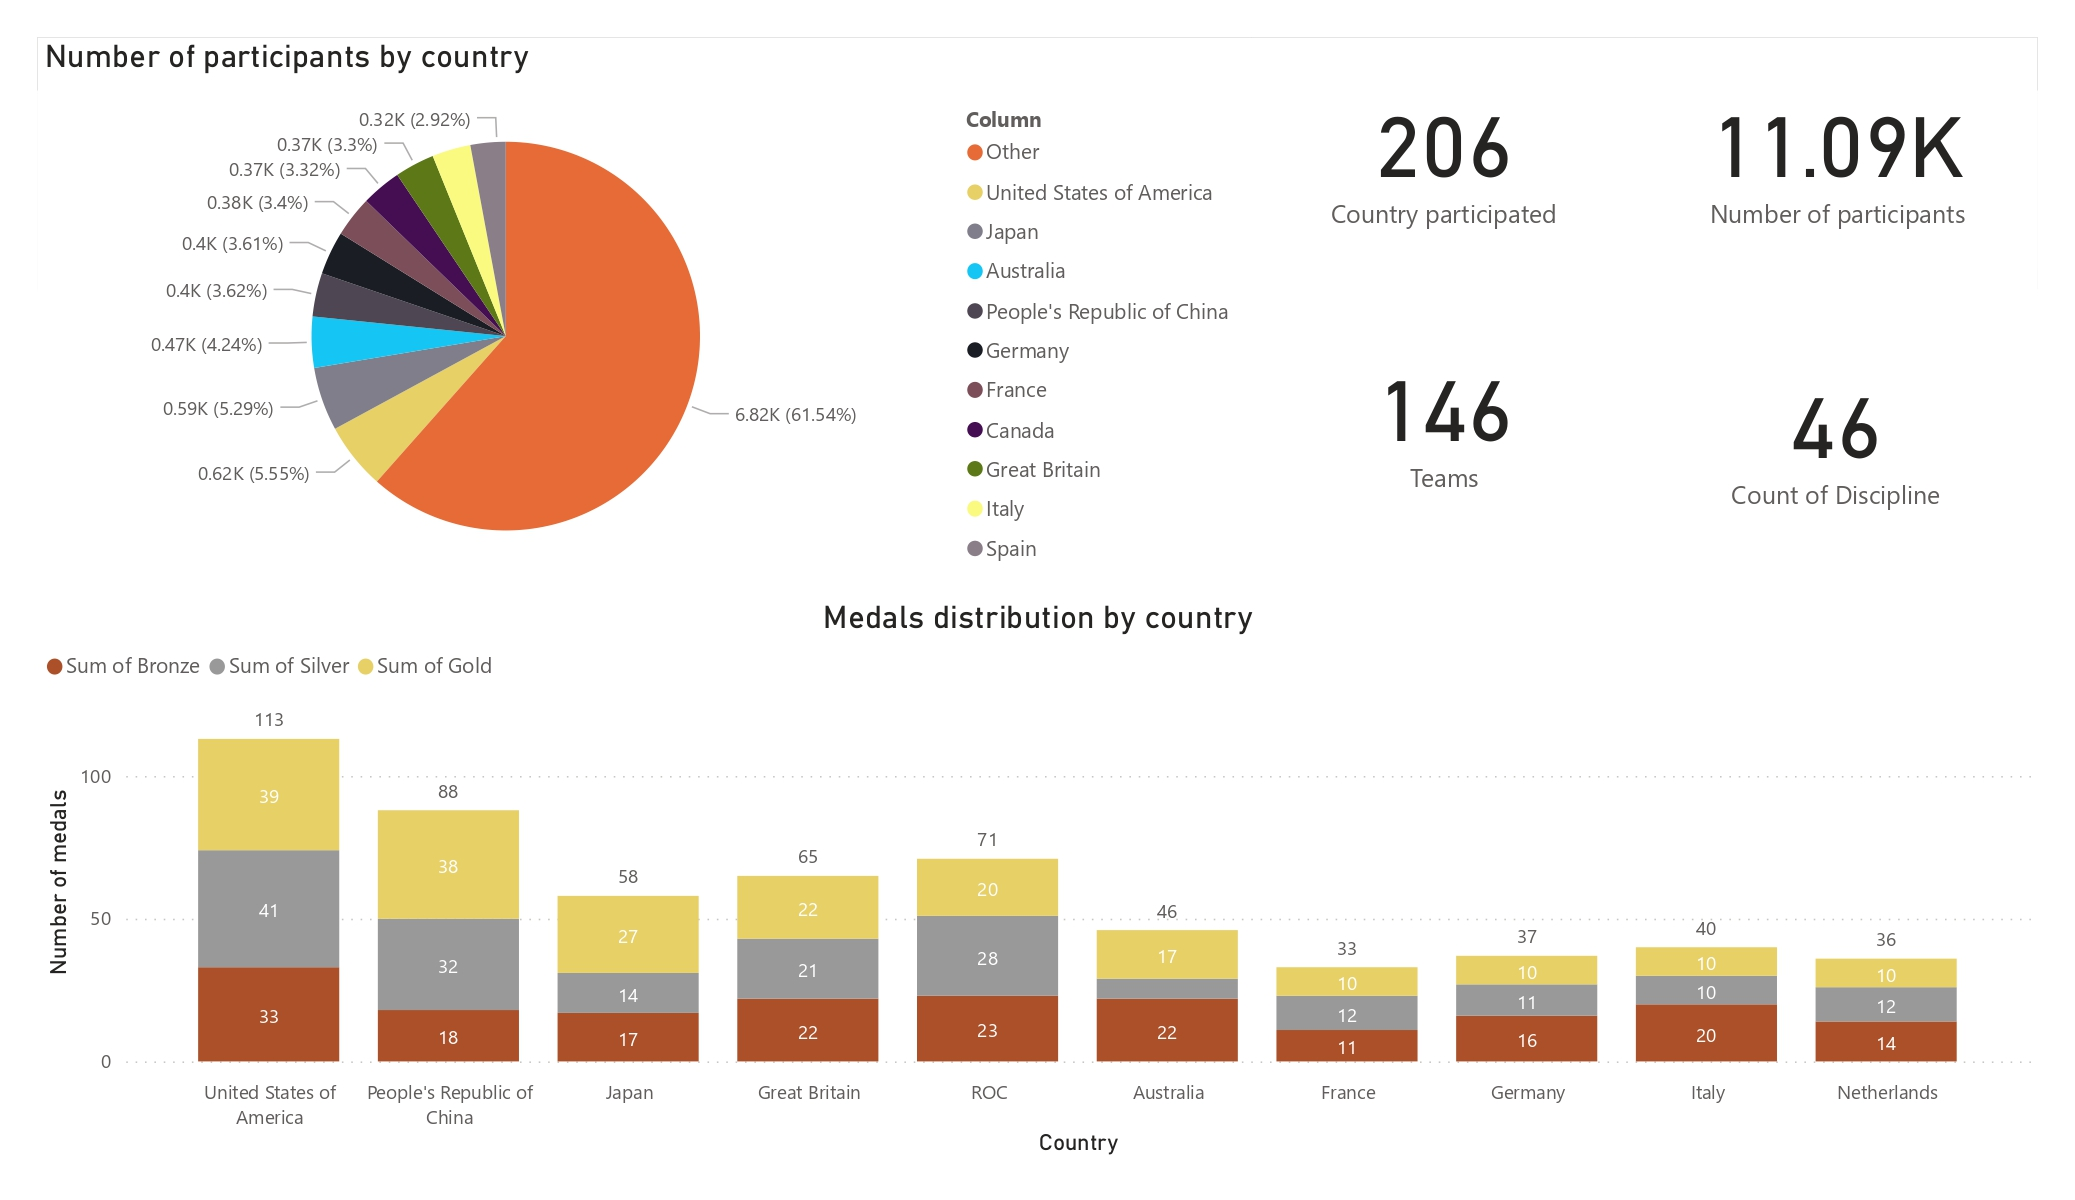

The page's visual inventory and layout, read from the dashboard file:
{"tool":"powerbi","page":{"name":"Page 1","canvas":[1280,720],"ordinal":0},"visuals":[{"type":"columnChart","title":"Medals distribution by country","fields":{"Y":["Medals.Bronze","Medals.Silver","Medals.Gold"],"Category":["Medals.Team_Country"]},"box":[0,359.2,1280.6,360.6],"z":0},{"type":"pieChart","title":"Number of participants by country","fields":{"Category":["Athletes.Column"],"Y":["Athletes.Column"]},"box":[0,0,777.4,359.2],"z":1},{"type":"card","title":"aa","fields":{"Values":["Athletes.PersonName"]},"box":[1022.8,0,257.8,148.1],"z":2},{"type":"card","fields":{"Values":["Athletes.Country"]},"box":[777.4,0,245.4,148.1],"z":3},{"type":"card","fields":{"Values":["Athletes.Discipline"]},"box":[1021.4,179.6,259.1,148.1],"z":4},{"type":"card","fields":{"Values":["Teams.TeamName"]},"box":[766.4,168.6,268.7,148.1],"z":5}]}

Visuals, with their boxes on the page's 1280x720 design canvas (x1, y1, x2, y2). These are canvas units, not pixel positions in the 2075x1200 screenshot, which may show the page scaled, cropped or inside an application window:
"Medals distribution by country" columnChart: <region>0, 359, 1281, 720</region>
"Number of participants by country" pieChart: <region>0, 0, 777, 359</region>
"aa" card: <region>1023, 0, 1281, 148</region>
card - Athletes.Country: <region>777, 0, 1023, 148</region>
card - Athletes.Discipline: <region>1021, 180, 1280, 328</region>
card - Teams.TeamName: <region>766, 169, 1035, 317</region>
